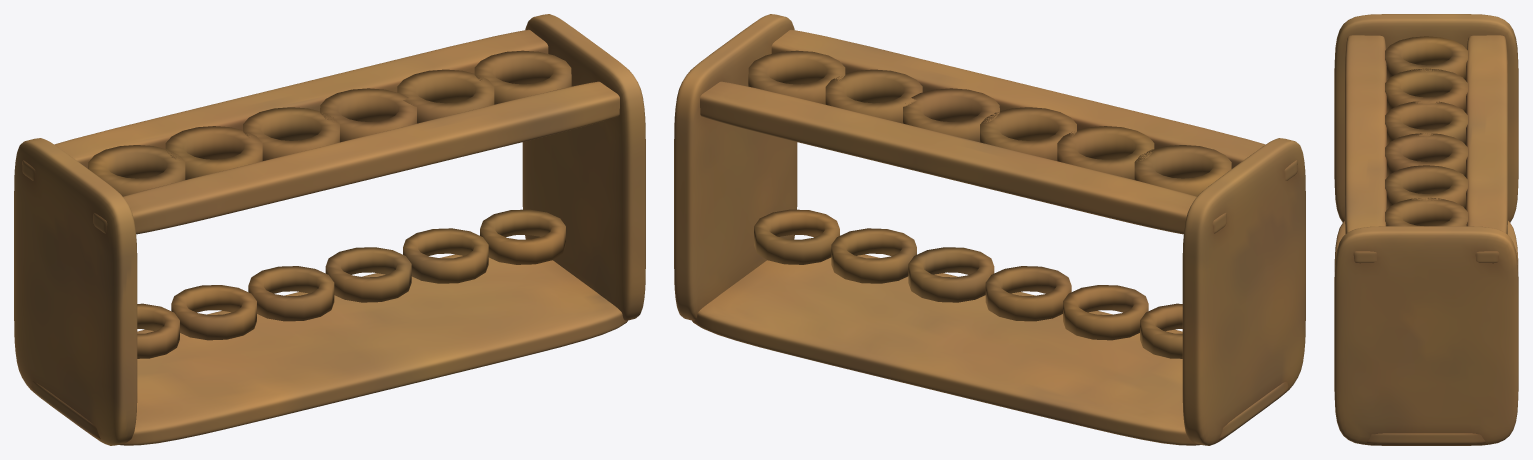
The model's file is test-tube-rack.glb.
3 views of the same model, side by side, from view 1: azimuth 30°, elevation 25°; view 2: azimuth 150°, elevation 25°; view 3: azimuth 270°, elevation 25° (orthographic). The views are drawn at different scales.
Parts seen in each view (by area): view 1: test-tube-rack-wood, test-tube-rack-collars; view 2: test-tube-rack-wood, test-tube-rack-collars; view 3: test-tube-rack-wood, test-tube-rack-collars.
Boxes of the visible parts, left/top/right/bottom form: test-tube-rack-wood: left=14, top=14, right=645, bottom=445; test-tube-rack-collars: left=88, top=50, right=571, bottom=358; test-tube-rack-wood: left=674, top=14, right=1305, bottom=445; test-tube-rack-collars: left=748, top=50, right=1231, bottom=358; test-tube-rack-wood: left=1334, top=14, right=1518, bottom=445; test-tube-rack-collars: left=1385, top=36, right=1467, bottom=226.
Size of what is drawn, in the model's own units: 20 by 9 by 7.
